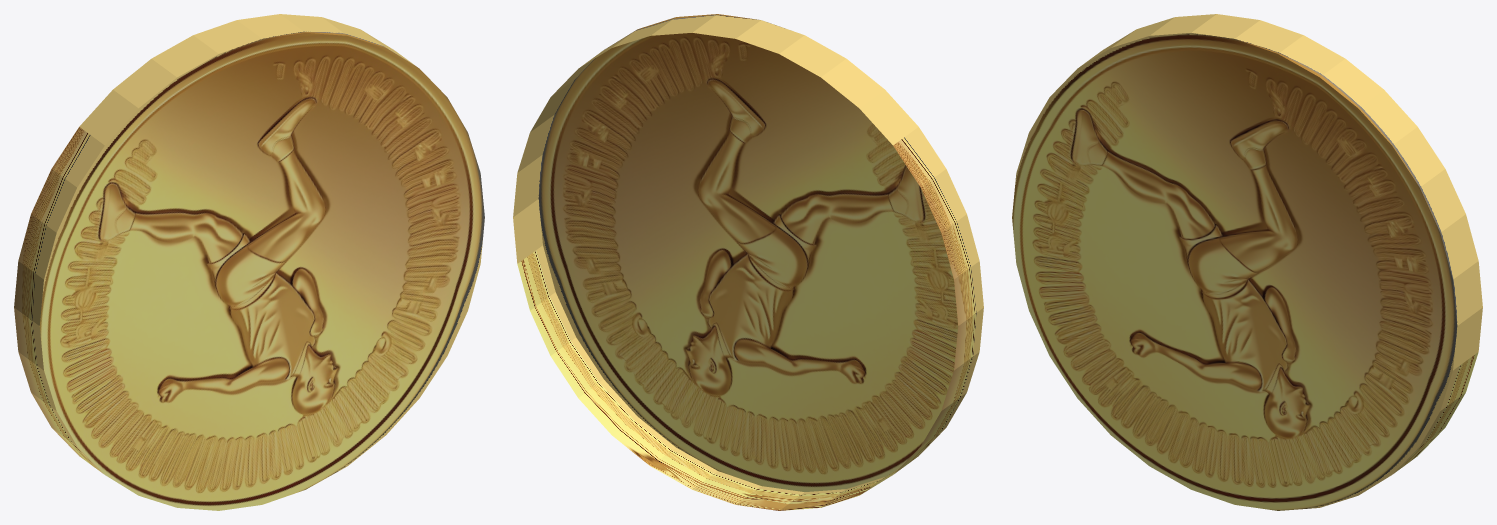
File: coin.glb
The picture shows the model from 3 angles, left to right: view 1: azimuth 30°, elevation 25°; view 2: azimuth 150°, elevation 25°; view 3: azimuth 330°, elevation 25°; orthographic projection.
Parts seen in each view (by area): view 1: Cylinder; view 2: Cylinder; view 3: Cylinder.
Part boxes in pixels (x1,y1,x2,y2): Cylinder: (14,14,484,510); Cylinder: (513,14,983,510); Cylinder: (1012,14,1482,510).
Size of the model in its own units: 2 by 2 by 0.2.
1 material, 1 textured.
